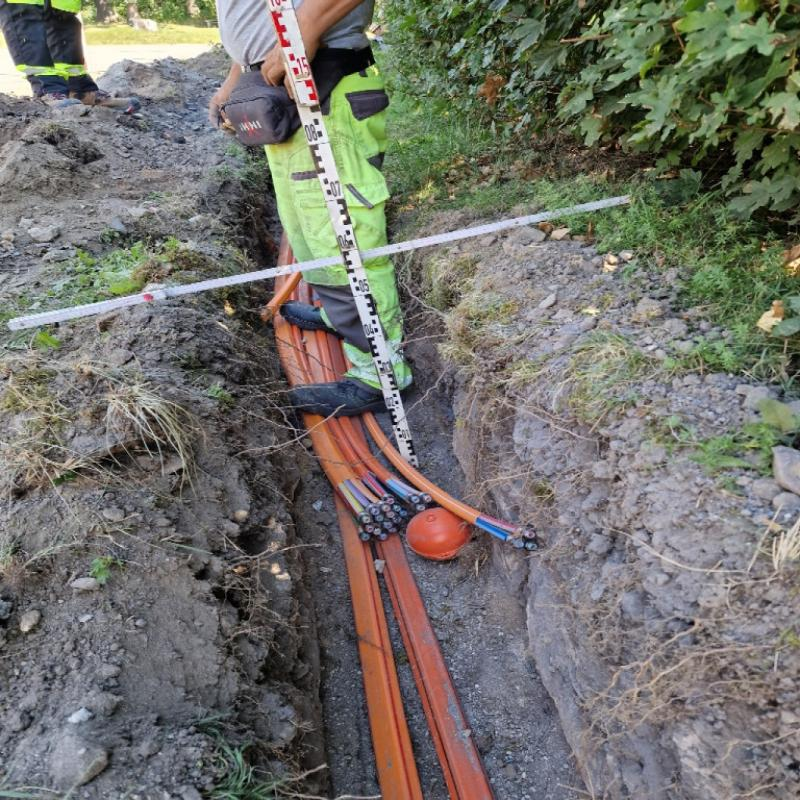Kugelmarker: (406, 507, 474, 562)
Orang-Speednetrohrchen: (376, 535, 495, 799), (366, 413, 540, 551), (343, 539, 422, 799), (304, 414, 433, 542)
